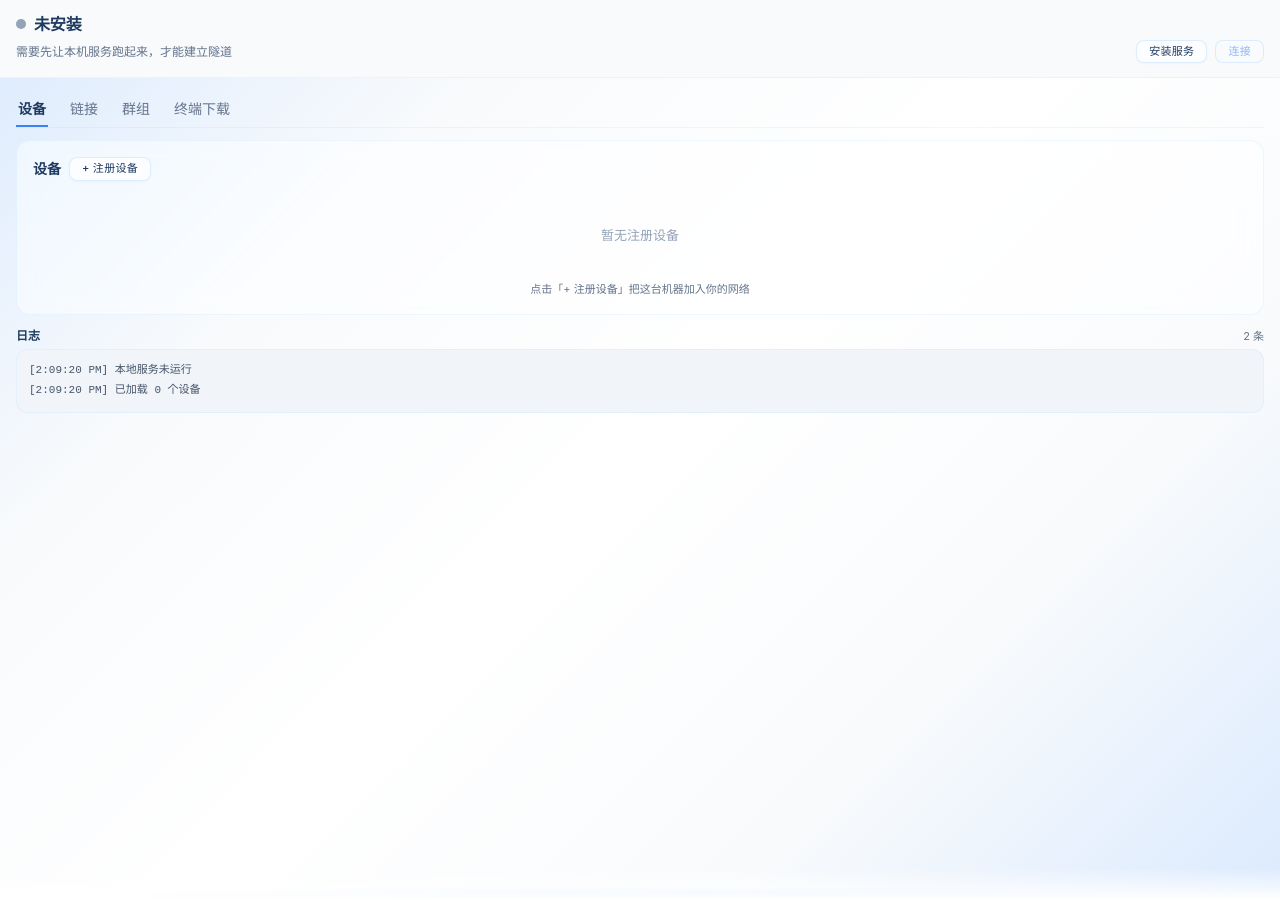
Test: HuanvaeGuardPage (macOS) › 修复后按退避表重试探活：首次读到 false 也能在后续重试中翻成运行中（零等待探活回归）
Click the button "安装服务" at (1172, 52), box [1136,40,1207,63]
Wait 1500 ms
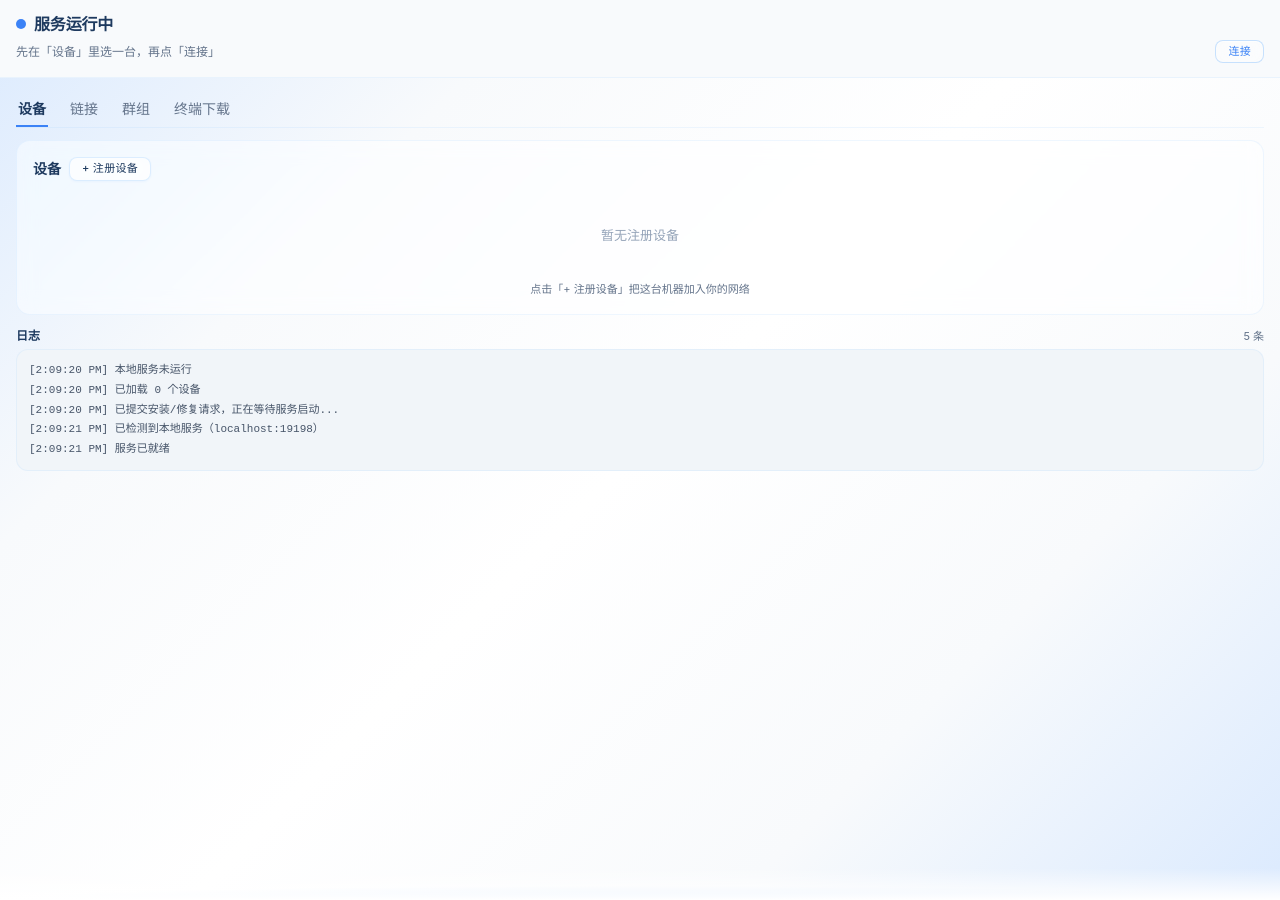
Expected: the text "服务运行中" is shown, [34,12,113,37]
Expected: the text "未安装" is gone
Expected: the button "安装服务" is gone
